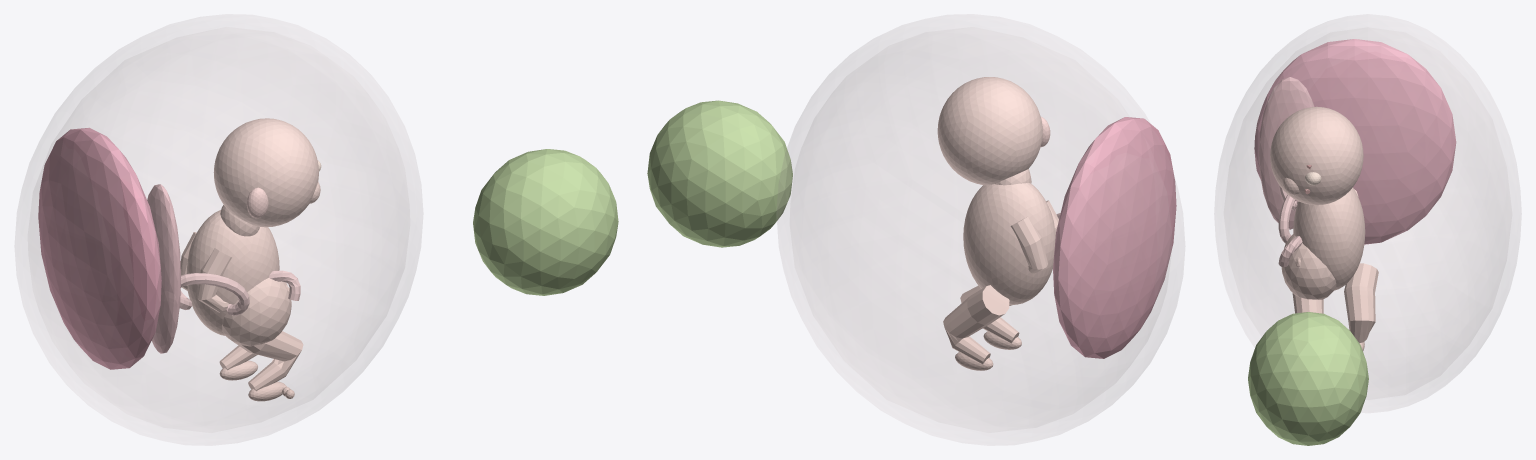
Rendered from hafta_36.glb.
The picture shows the model from 3 angles, left to right: view 1: azimuth 30°, elevation 25°; view 2: azimuth 150°, elevation 25°; view 3: azimuth 270°, elevation 25°; orthographic projection. The views are drawn at different scales.
Parts seen in each view (by area): view 1: Gebelik_kesesi_dis_zar_26, Plasenta_gelisen_doku_28, Meyve_Marul_30, Bas_1, Gogus_govde_2, Plasenta_yumusak_yuzey_29, Gobel_ve_karin_3, Bacak_on_18, Gobek_kordonu_ogretici_24, Kol_on_11; view 2: Gebelik_kesesi_dis_zar_26, Plasenta_gelisen_doku_28, Meyve_Marul_30, Bas_1, Gogus_govde_2, Bacak_arka_16, Kol_on_arka_9, Bacak_on_18; view 3: Gebelik_kesesi_dis_zar_26, Plasenta_gelisen_doku_28, Meyve_Marul_30, Bas_1, Gogus_govde_2, Plasenta_yumusak_yuzey_29, Gobel_ve_karin_3, Bacak_arka_16, Gobek_kordonu_ogretici_24, Bacak_on_18.
Boxes of the visible parts, box(x1,y1,x2,y2) form: Gebelik_kesesi_dis_zar_26: box(15, 14, 422, 445); Plasenta_gelisen_doku_28: box(38, 127, 161, 369); Meyve_Marul_30: box(473, 149, 618, 295); Bas_1: box(213, 118, 318, 227); Gogus_govde_2: box(186, 210, 279, 335); Plasenta_yumusak_yuzey_29: box(147, 184, 181, 353); Gobel_ve_karin_3: box(222, 278, 291, 346); Bacak_on_18: box(227, 331, 303, 391); Gobek_kordonu_ogretici_24: box(179, 270, 300, 315); Kol_on_11: box(196, 248, 231, 312); Gebelik_kesesi_dis_zar_26: box(777, 14, 1184, 445); Plasenta_gelisen_doku_28: box(1053, 117, 1176, 358); Meyve_Marul_30: box(647, 100, 792, 247); Bas_1: box(937, 77, 1042, 185); Gogus_govde_2: box(963, 183, 1055, 304); Bacak_arka_16: box(943, 285, 1009, 364); Kol_on_arka_9: box(1010, 216, 1047, 273); Bacak_on_18: box(960, 285, 1019, 343); Gebelik_kesesi_dis_zar_26: box(1214, 14, 1521, 412); Plasenta_gelisen_doku_28: box(1254, 39, 1456, 244); Meyve_Marul_30: box(1248, 312, 1368, 445); Bas_1: box(1270, 106, 1363, 205); Gogus_govde_2: box(1293, 187, 1365, 290); Plasenta_yumusak_yuzey_29: box(1258, 77, 1314, 229); Gobel_ve_karin_3: box(1281, 234, 1336, 299); Bacak_arka_16: box(1344, 263, 1378, 343); Gobek_kordonu_ogretici_24: box(1278, 186, 1302, 267); Bacak_on_18: box(1292, 293, 1323, 313).
Size of the model in its own units: 11.42 by 8.1 by 6.2.
